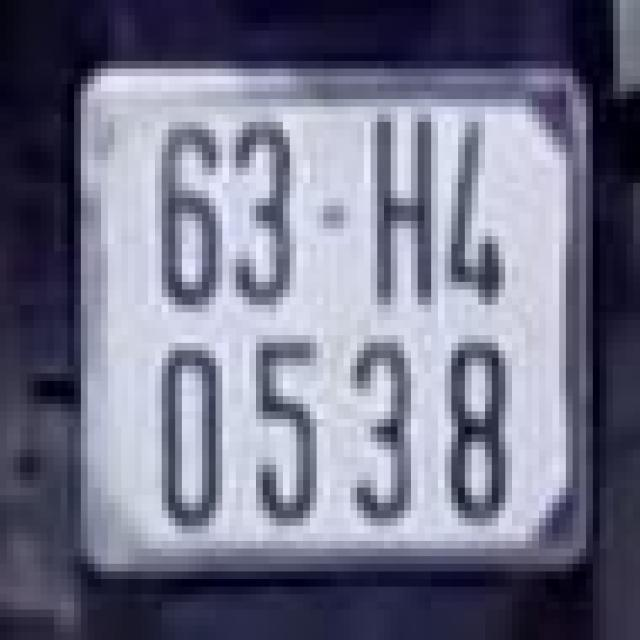0: (148, 339, 236, 545)
3: (337, 328, 424, 533), (226, 103, 306, 316)
4: (435, 107, 522, 312)
5: (246, 328, 333, 541)
6: (152, 106, 226, 328)
8: (431, 332, 526, 530)
H: (361, 91, 442, 320)
